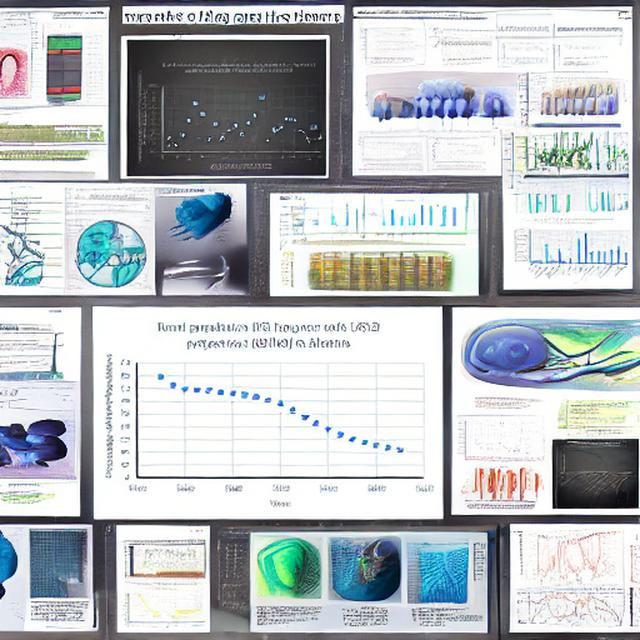Graph: (95, 313, 441, 517), (131, 59, 326, 176), (510, 215, 631, 287), (118, 580, 208, 631), (452, 413, 538, 466), (554, 439, 639, 490), (373, 198, 427, 230), (495, 40, 548, 71)
